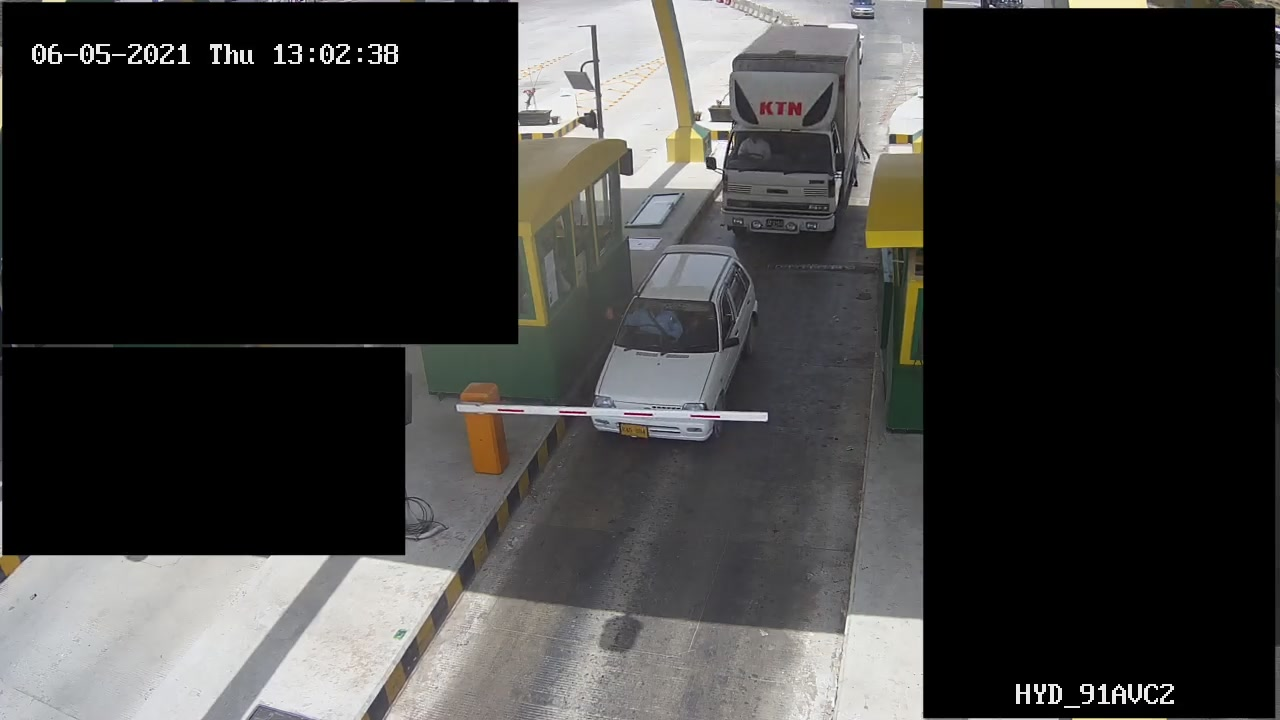F1: (593, 239, 760, 442)
F3: (707, 20, 872, 235)
